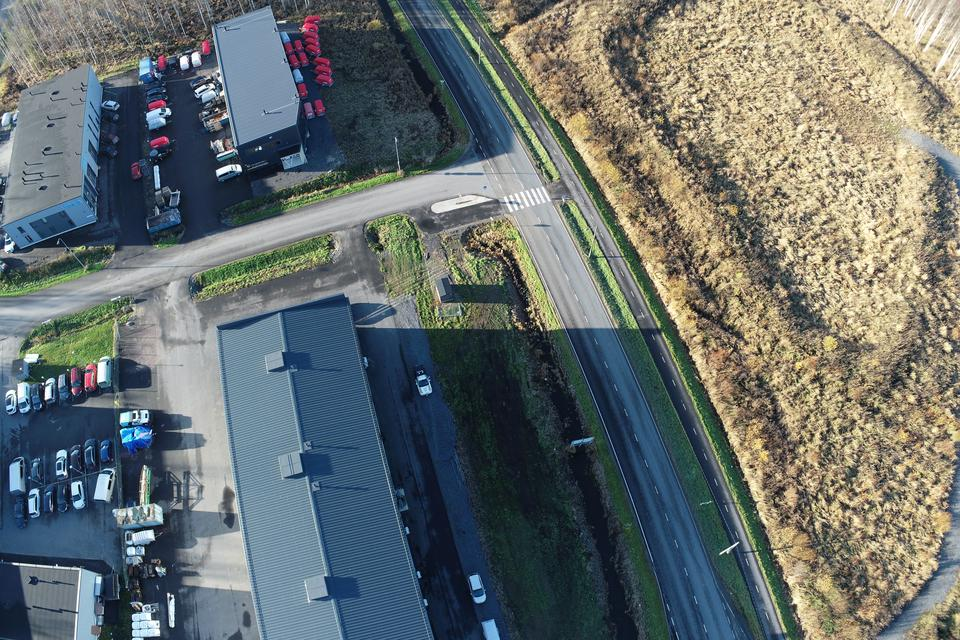intersection: (404, 138, 636, 250)
